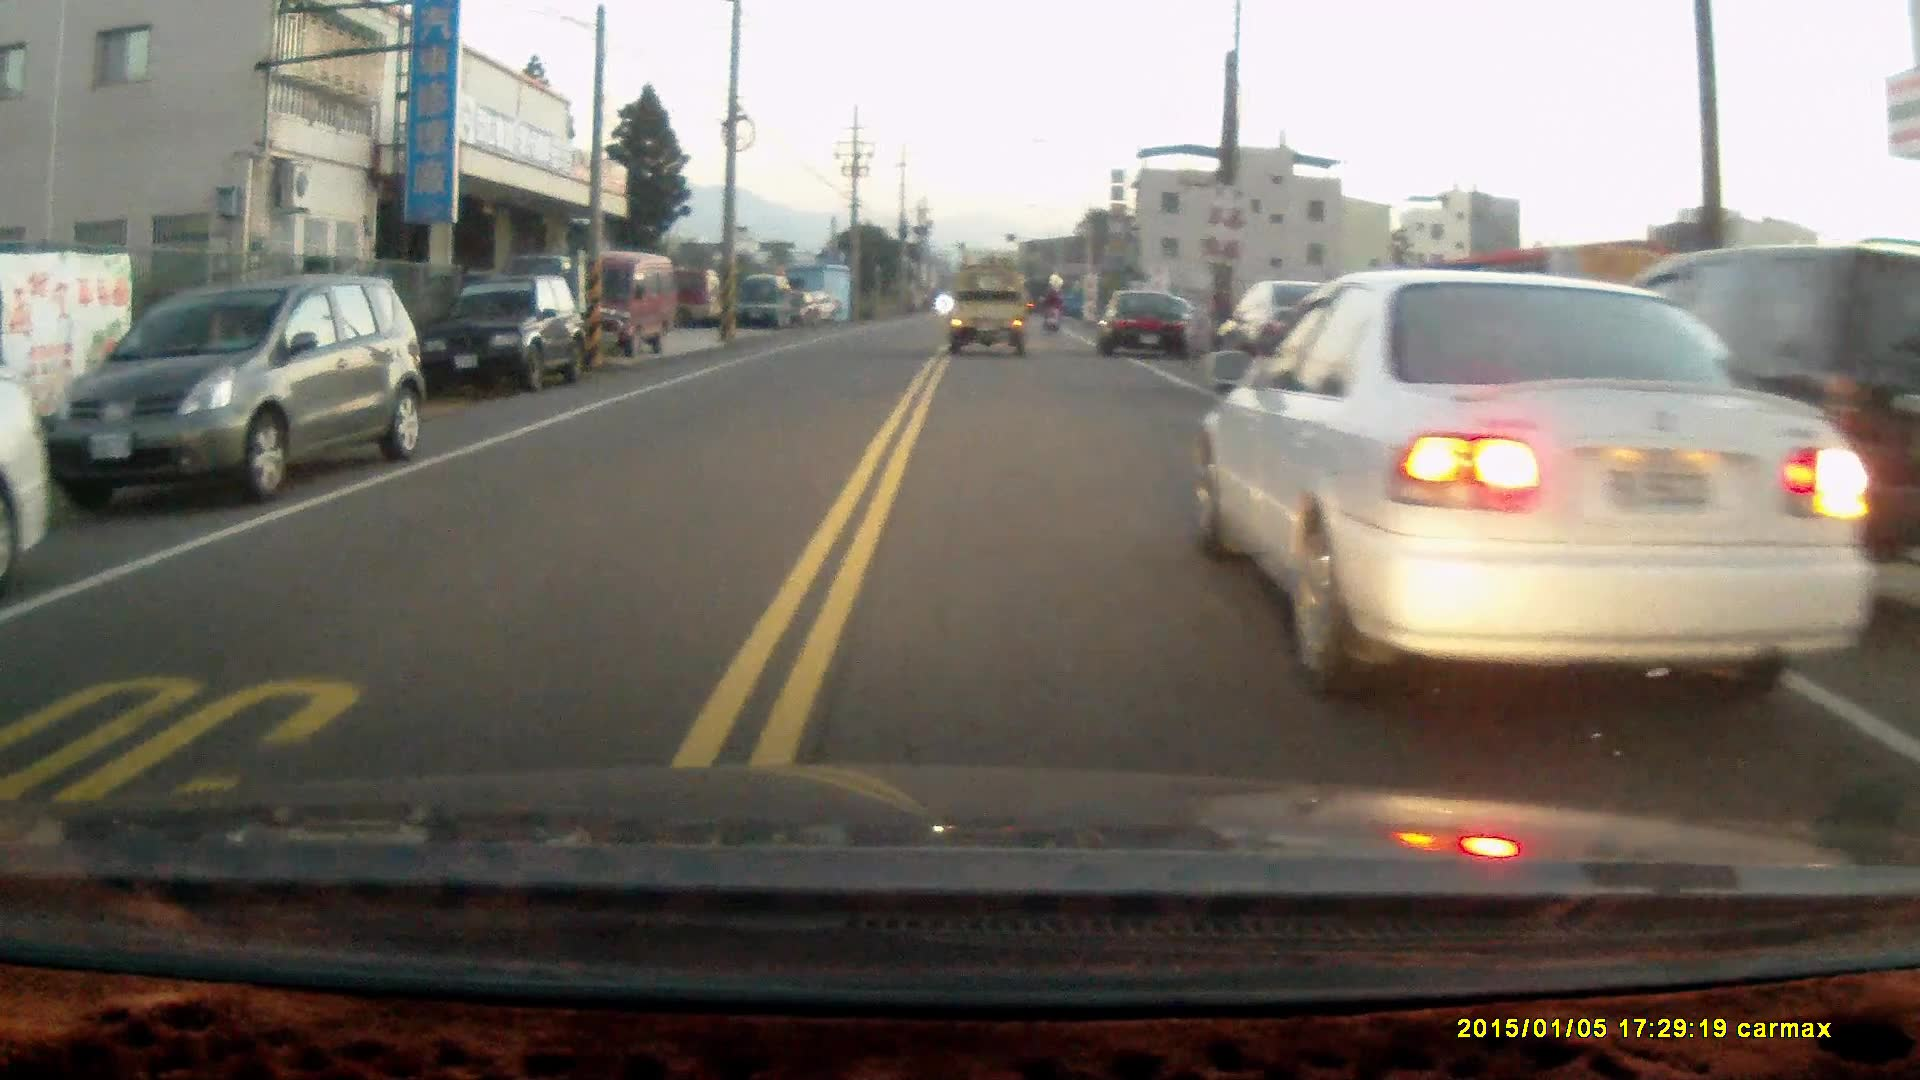rider: (1038, 285, 1065, 333)
vehicle: (1182, 269, 1890, 715), (1487, 248, 1920, 608), (45, 272, 420, 503), (436, 272, 587, 396), (1, 306, 51, 576), (561, 253, 683, 356), (1094, 291, 1192, 362), (949, 271, 1028, 358), (733, 275, 795, 330)
